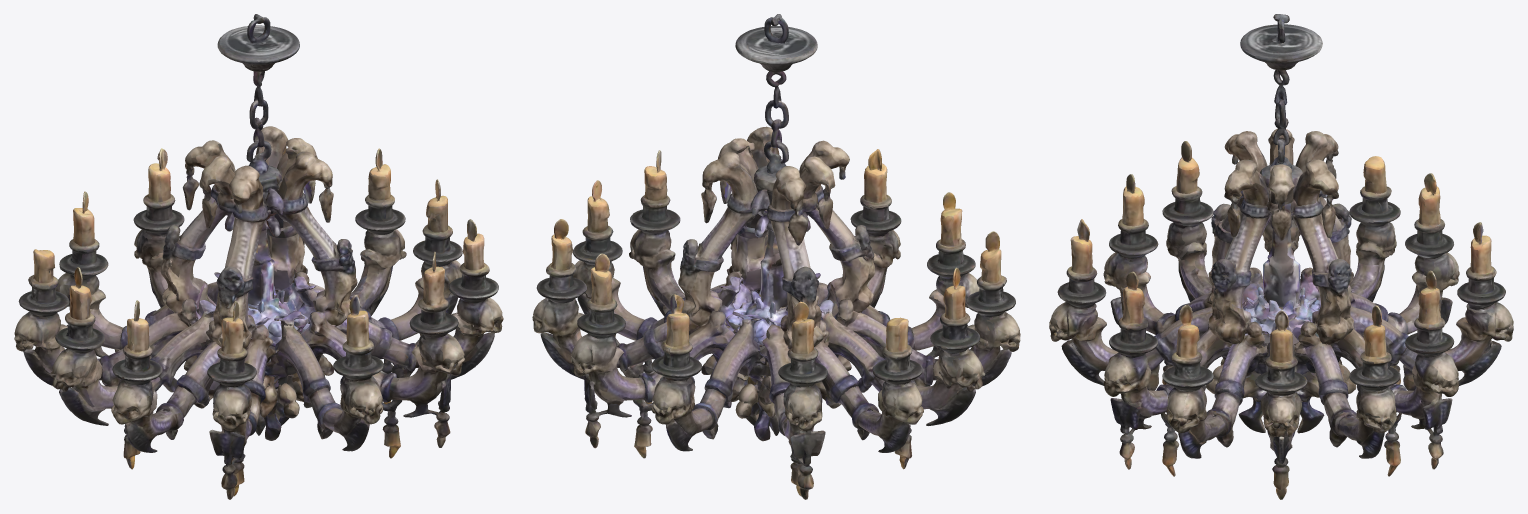
File: chandelier.glb
3 views of the same model, side by side, from view 1: azimuth 30°, elevation 25°; view 2: azimuth 150°, elevation 25°; view 3: azimuth 270°, elevation 25° (orthographic).
Parts seen in each view (by area): view 1: geometry_0; view 2: geometry_0; view 3: geometry_0.
Part boxes in pixels (x1=…): geometry_0: x1=14, y1=14, x2=503, y2=499; geometry_0: x1=532, y1=14, x2=1020, y2=499; geometry_0: x1=1049, y1=14, x2=1513, y2=499.
Size of the model in its own units: 1.12 by 1.1 by 1.09.
Materials: 1 (1 with a texture image).
